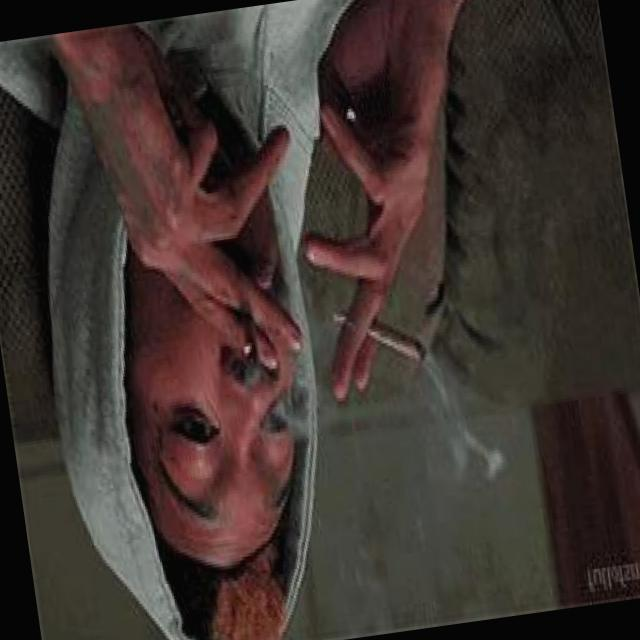cigarette: (316, 283, 464, 453), (212, 264, 304, 398)
